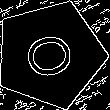O_E: (18, 26, 82, 82)
